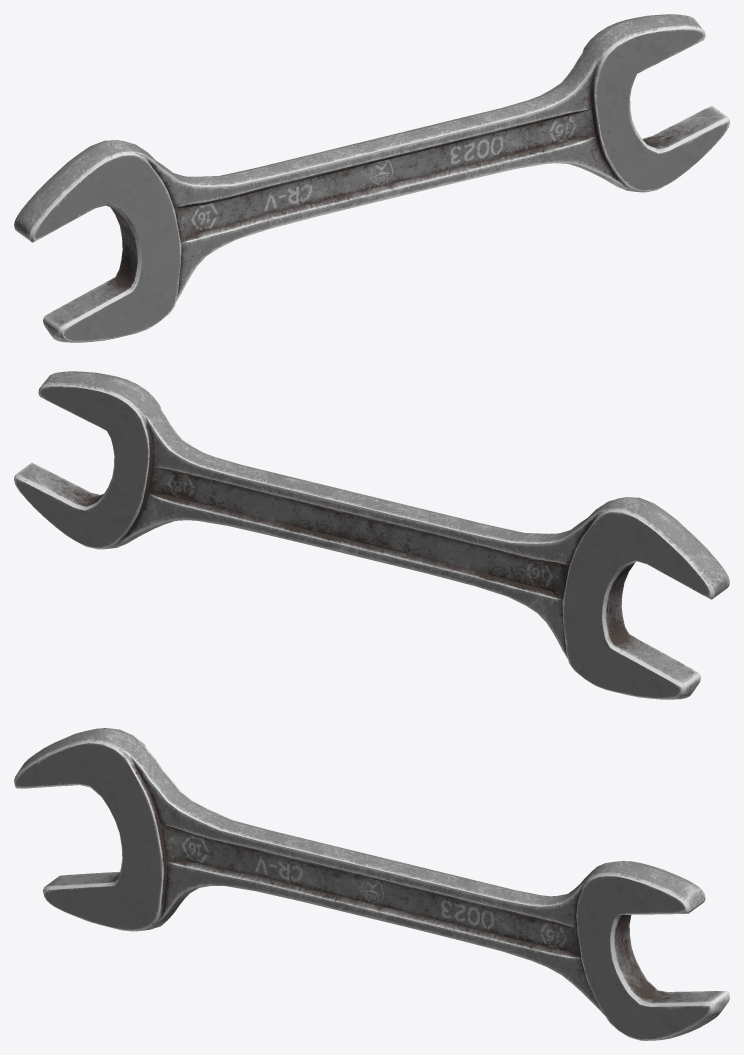
Rendered from wrench.glb.
The picture shows the model from 3 angles, top to bottom: view 1: azimuth 30°, elevation 25°; view 2: azimuth 150°, elevation 25°; view 3: azimuth 330°, elevation 25°; orthographic projection.
Visible parts, largest first — view 1: wrench; view 2: wrench; view 3: wrench.
Boxes of the visible parts, <box> form: wrench: <box>14,14,729,342</box>; wrench: <box>14,371,729,699</box>; wrench: <box>14,728,729,1040</box>.
Size of the model in its own units: 0.3797 by 0.1013 by 0.0178.
1 material, 1 textured.
